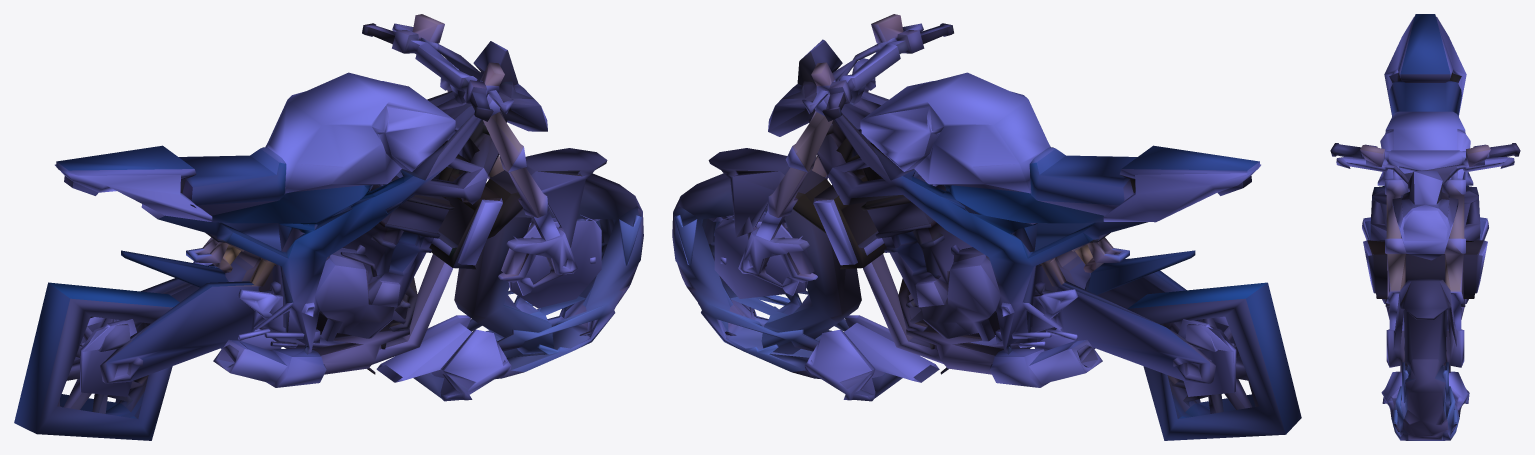
Rendered from model.progressive.glb.
3 renders of one model, left to right at view 1: azimuth 30°, elevation 25°; view 2: azimuth 150°, elevation 25°; view 3: azimuth 270°, elevation 25°, orthographic. The views are drawn at different scales.
Parts seen in each view (by area): view 1: material; view 2: material; view 3: material.
Part boxes in pixels (x1=…): material: x1=14, y1=14, x2=643, y2=440; material: x1=672, y1=14, x2=1301, y2=440; material: x1=1330, y1=14, x2=1520, y2=440.
Bounding box in the file's own units: 1.85 × 0.9568 × 0.6268.
1 material, 1 textured.
